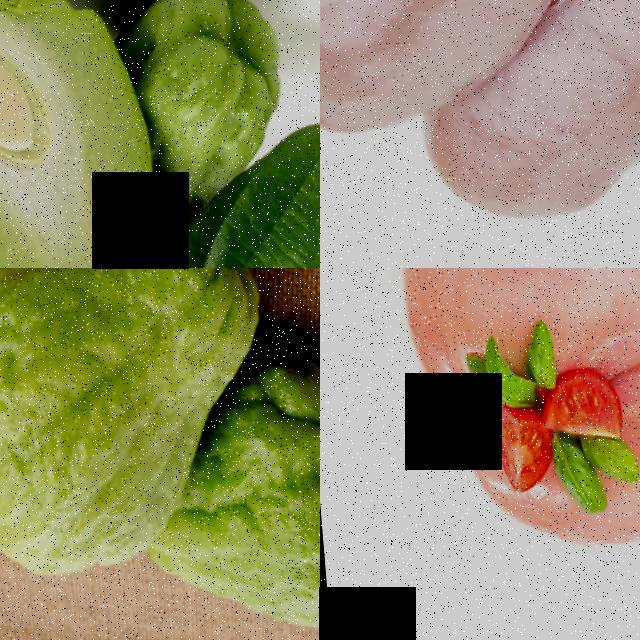chayote: (0, 268, 212, 535), (0, 0, 201, 268), (219, 344, 320, 640)
chicken breast: (364, 268, 640, 359), (551, 0, 640, 261), (320, 0, 480, 117)
